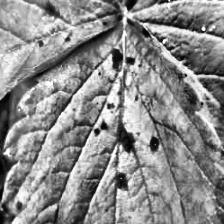Leaf Spot: (0, 17, 224, 224), (127, 0, 224, 218), (0, 0, 135, 135)
